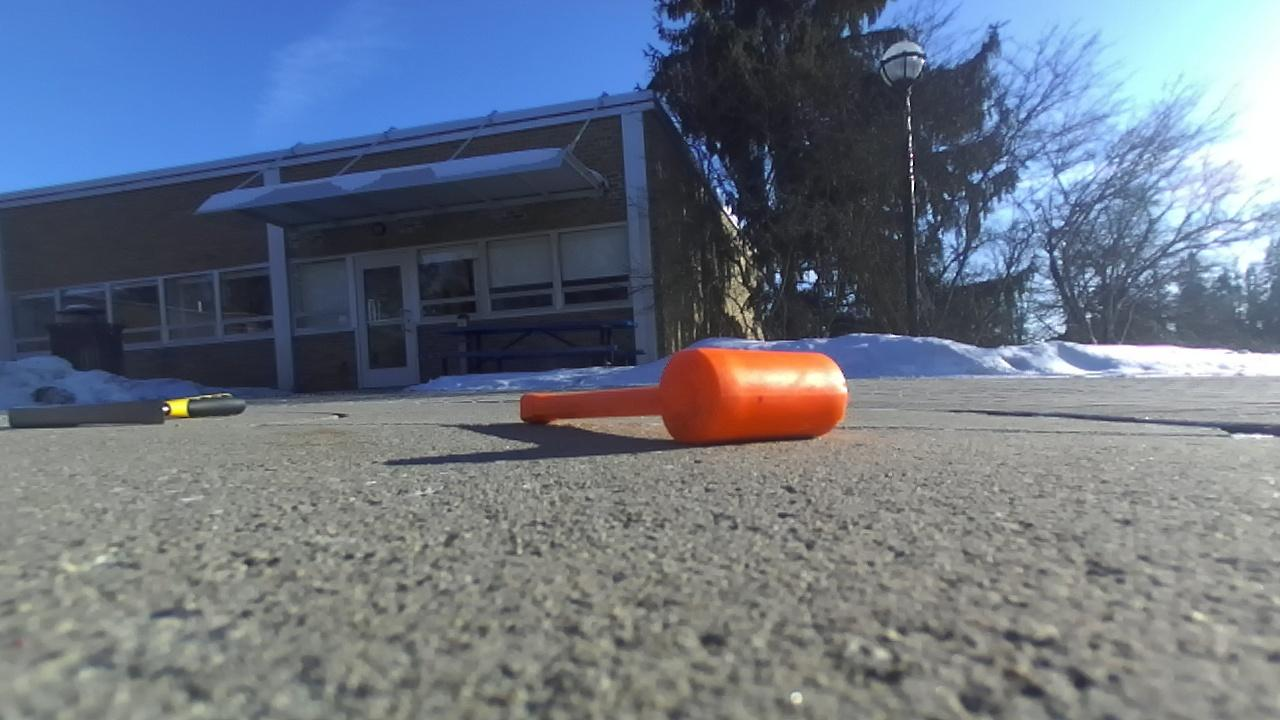mallet: (520, 348, 847, 443)
pick: (9, 393, 245, 427)
